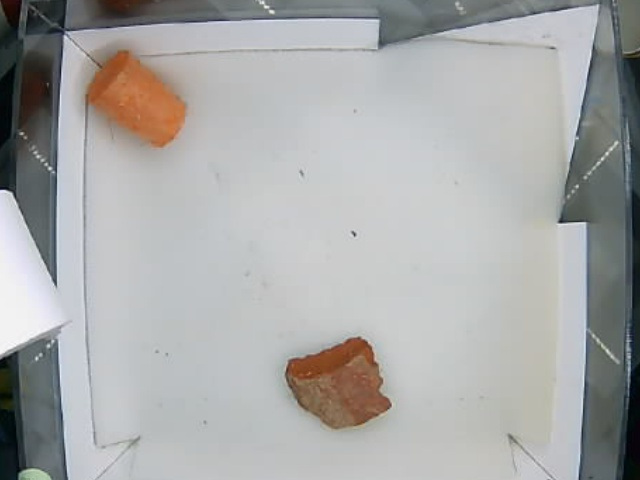Brisk: (286, 337, 395, 432)
Carrot: (87, 48, 189, 150)
